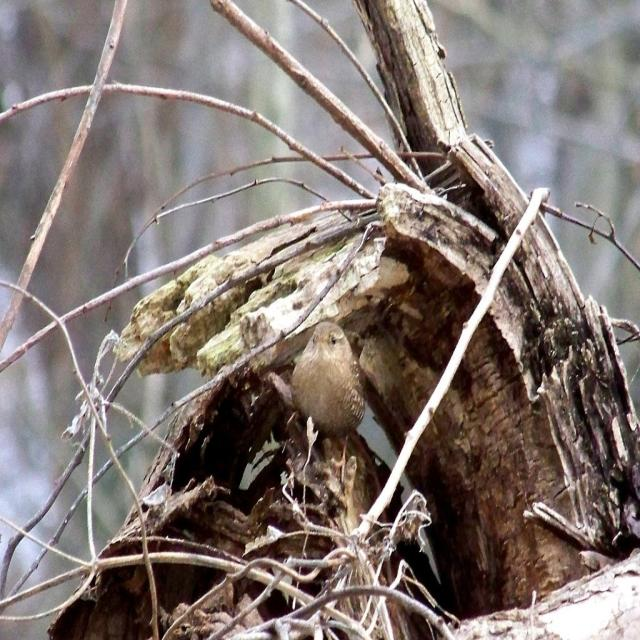bird: (278, 320, 380, 474)
